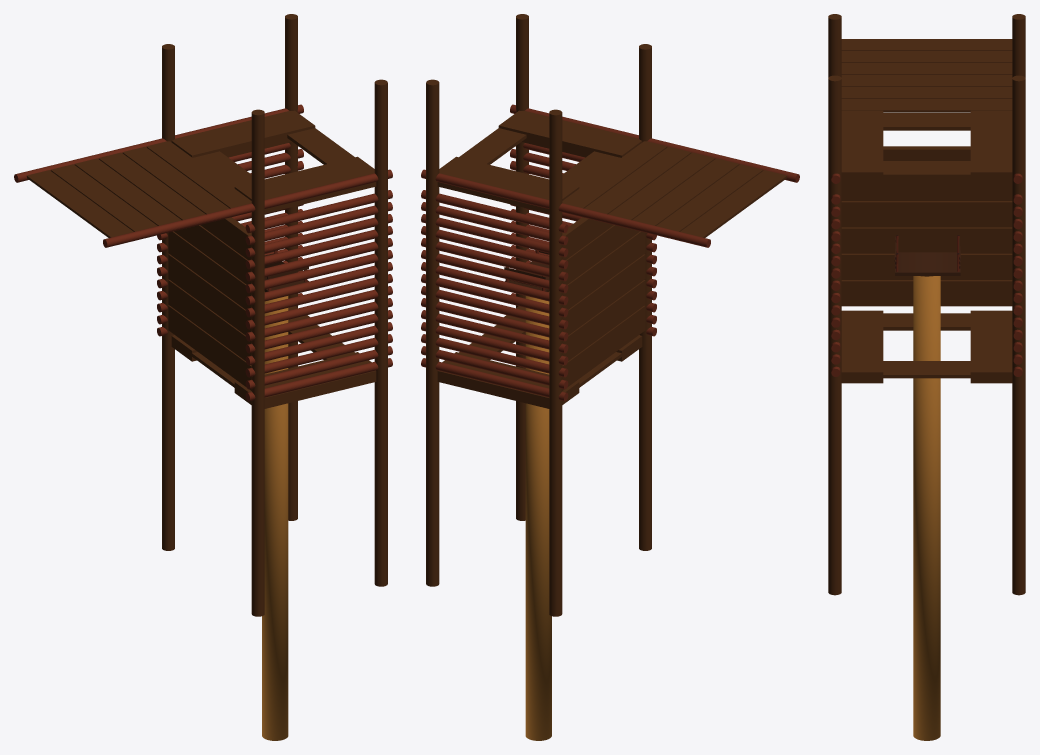
Rendered from FarmerLift.fbx.
3 renders of one model, left to right at view 1: azimuth 30°, elevation 25°; view 2: azimuth 150°, elevation 25°; view 3: azimuth 270°, elevation 25°, orthographic. The views are drawn at different scales.
Parts seen in each view (by area): view 1: SideBarricades, Pillars, Bridge, BackWall, StagePilar, TopPlatform, BottomPlatform; view 2: SideBarricades, Pillars, Bridge, BackWall, StagePilar, TopPlatform, BottomPlatform; view 3: BackWall, Pillars, Bridge, StagePilar, TopPlatform, BottomPlatform, SideBarricades, Stage.
Part boxes in pixels (x1=…): SideBarricades: x1=14, y1=104, x2=392, y2=401; Pillars: x1=162, y1=14, x2=387, y2=616; Bridge: x1=26, y1=141, x2=251, y2=237; BackWall: x1=168, y1=217, x2=251, y2=390; StagePilar: x1=262, y1=296, x2=288, y2=740; TopPlatform: x1=171, y1=110, x2=376, y2=213; BottomPlatform: x1=171, y1=306, x2=376, y2=408; SideBarricades: x1=421, y1=104, x2=799, y2=401; Pillars: x1=426, y1=14, x2=651, y2=616; Bridge: x1=562, y1=141, x2=787, y2=237; BackWall: x1=562, y1=217, x2=645, y2=390; StagePilar: x1=525, y1=296, x2=551, y2=740; TopPlatform: x1=437, y1=110, x2=642, y2=213; BottomPlatform: x1=437, y1=306, x2=642, y2=408; BackWall: x1=841, y1=146, x2=1012, y2=306; Pillars: x1=828, y1=14, x2=1025, y2=595; Bridge: x1=841, y1=39, x2=1012, y2=112; StagePilar: x1=913, y1=276, x2=940, y2=740; TopPlatform: x1=841, y1=110, x2=1012, y2=183; BottomPlatform: x1=841, y1=310, x2=1012, y2=383; SideBarricades: x1=831, y1=173, x2=1022, y2=376; Stage: x1=895, y1=252, x2=960, y2=275.
Bounding box in the file's own units: 1483 × 3329 × 866.
